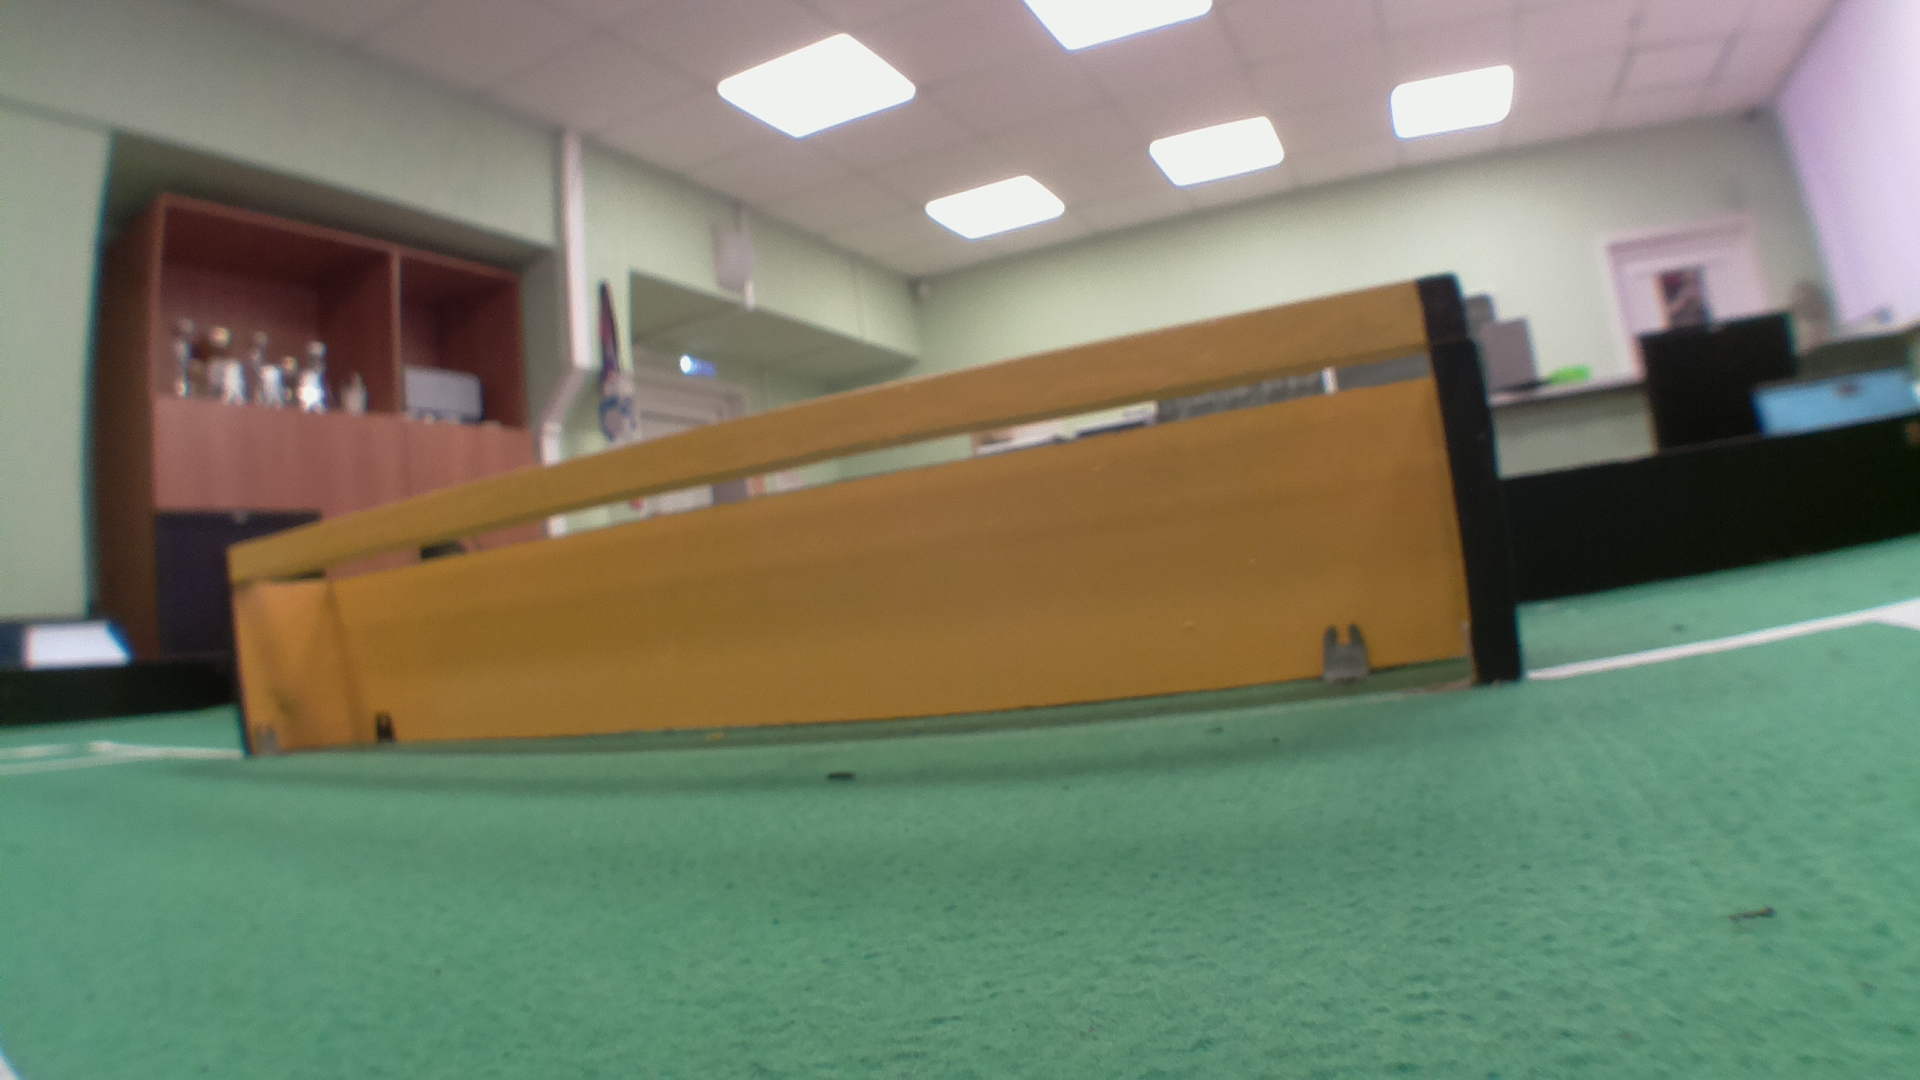YellowGoal: (210, 415, 1468, 679)
